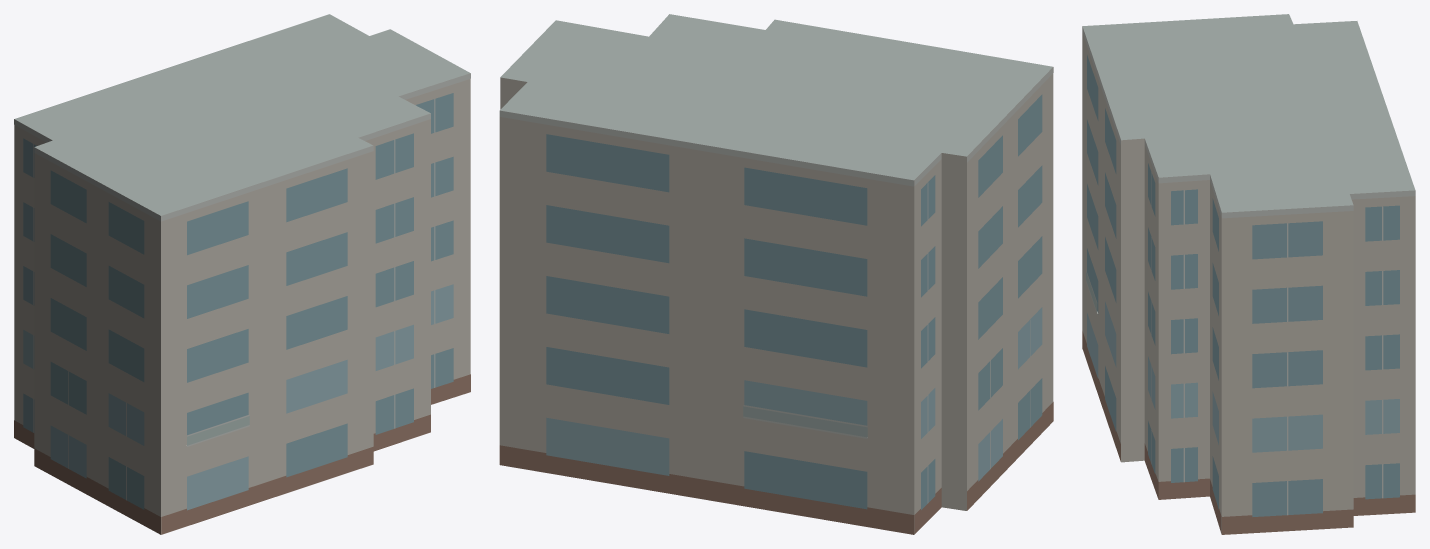
Rendered from survey-upis-32866250.glb.
The picture shows the model from 3 angles, left to right: view 1: azimuth 30°, elevation 25°; view 2: azimuth 150°, elevation 25°; view 3: azimuth 270°, elevation 25°; orthographic projection. The views are drawn at different scales.
Visible parts, largest first — view 1: survey-upis-32866250.tmp; view 2: survey-upis-32866250.tmp; view 3: survey-upis-32866250.tmp.
Part boxes in pixels (left/top/right/bottom): survey-upis-32866250.tmp: left=14, top=14, right=470, bottom=534; survey-upis-32866250.tmp: left=499, top=14, right=1053, bottom=534; survey-upis-32866250.tmp: left=1082, top=14, right=1415, bottom=534.
Size of the model in its own units: 18.33 by 13.85 by 12.99.
